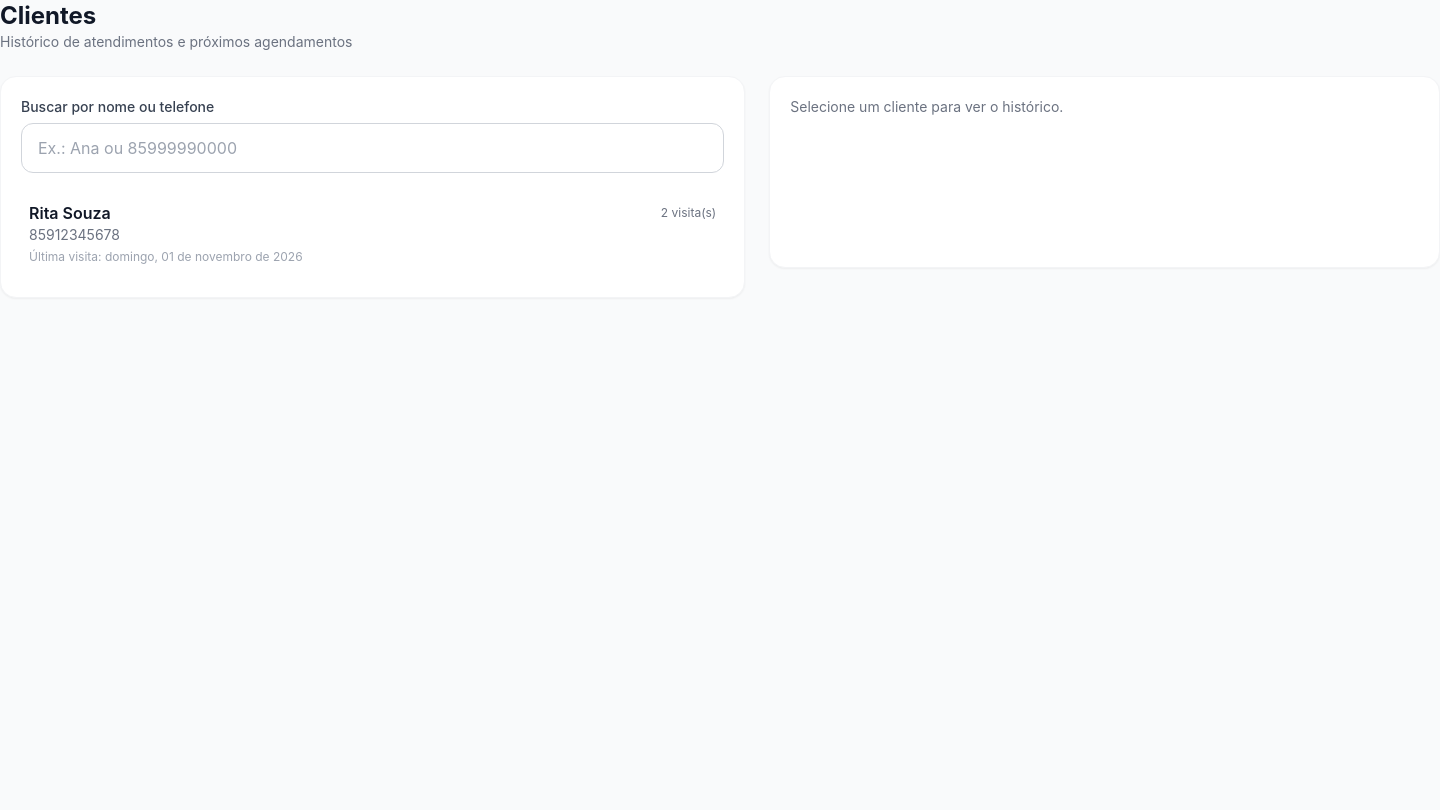
it: customer directory › opens rebooking modal with service, date and available times
The image size is (1440, 810).
Click the button "Rita Souza" at (70, 213), box [21,189,724,277]
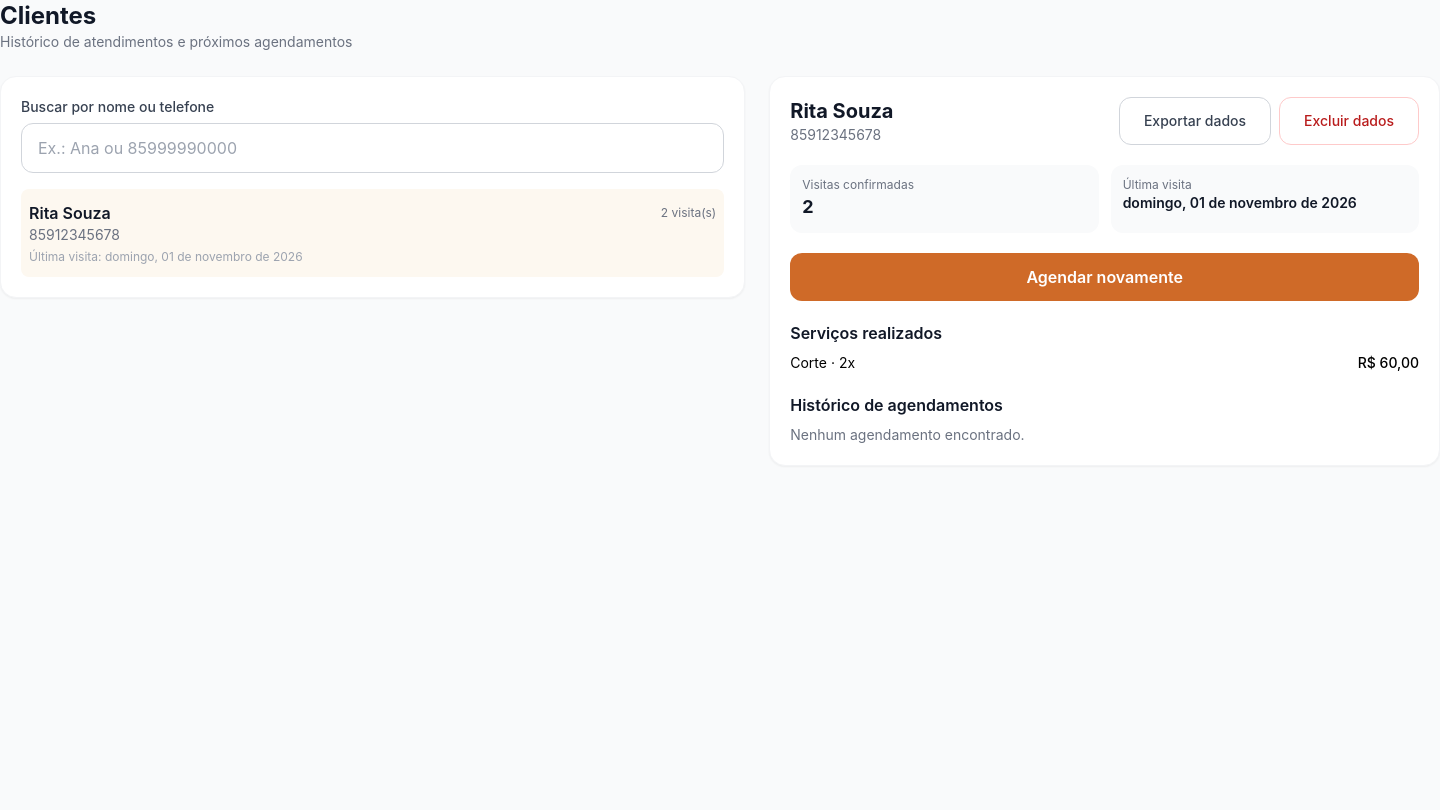
Now the heading "Serviços realizados" is shown, box [790,323,942,343]
Now the text "Corte · 2x" is shown, box [790,353,855,373]
Click the button "Agendar novamente" at (1105, 277), box [790,253,1419,301]
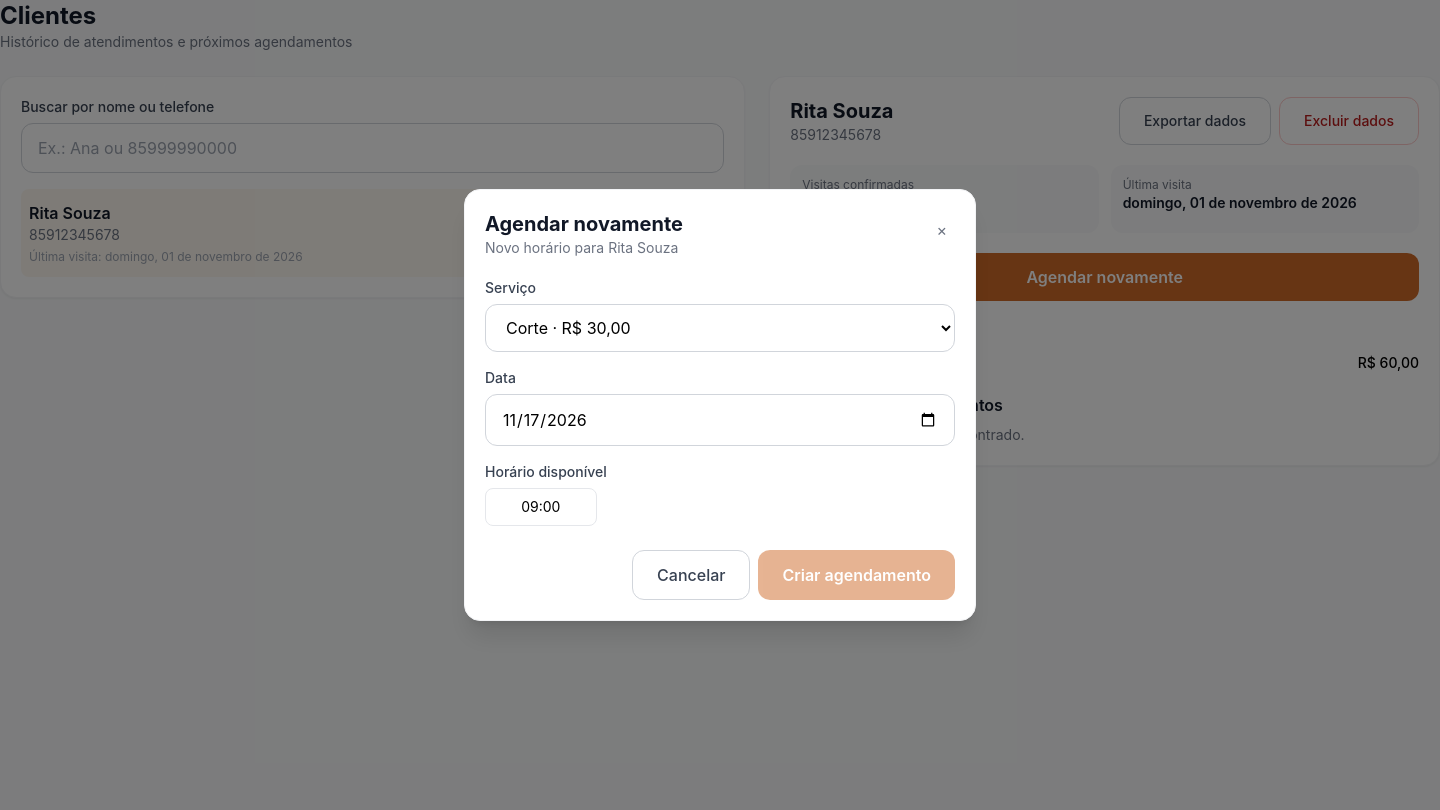
Now the dialog "Agendar novamente" is shown, box [464,189,976,621]
Now the dropdown labelled "Serviço" shows "Corte · R$ 30,00", box [485,304,955,352]
Now the date field labelled "Data" is shown, box [485,394,955,446]
